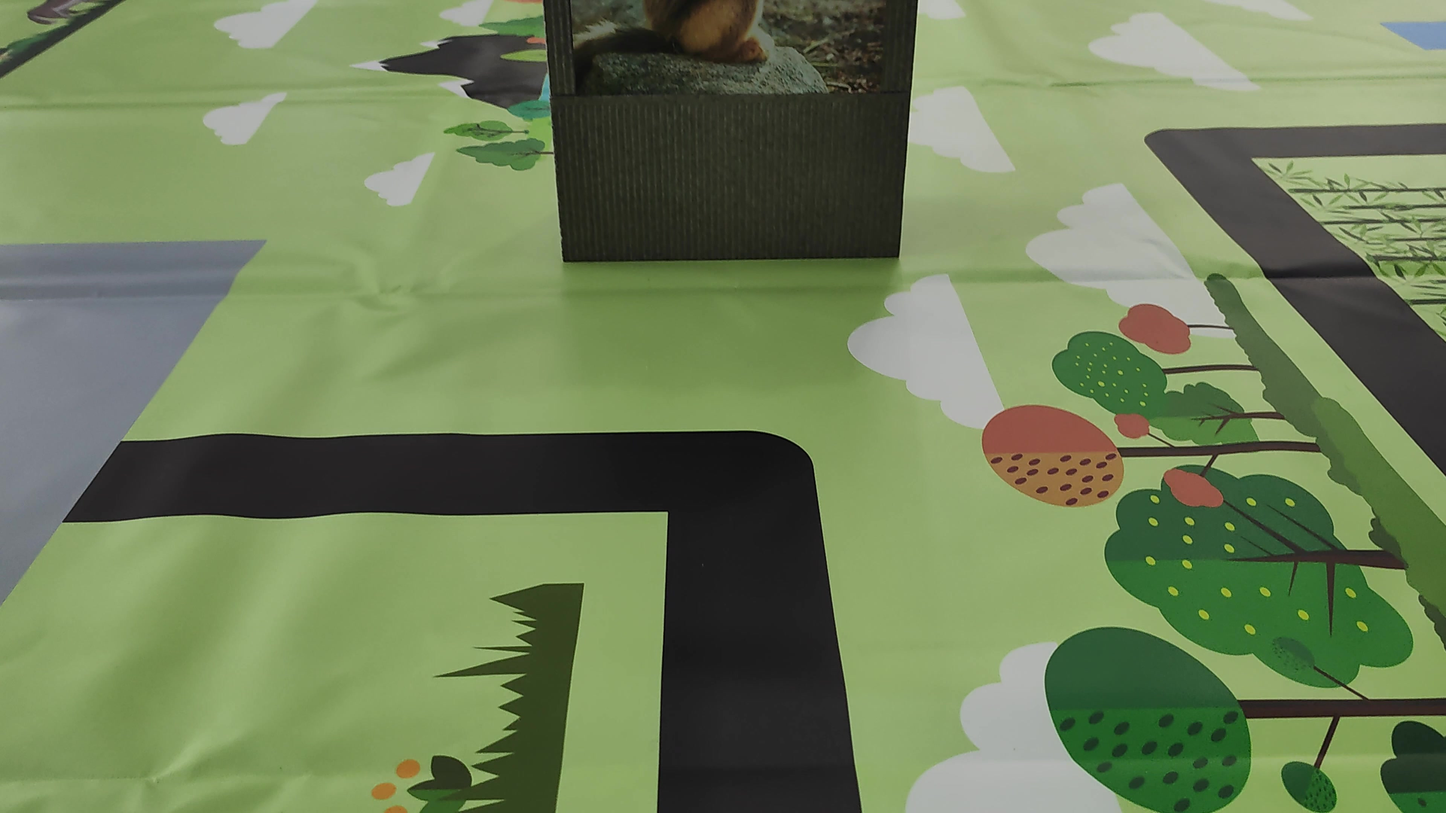monkey: (613, 2, 836, 108)
